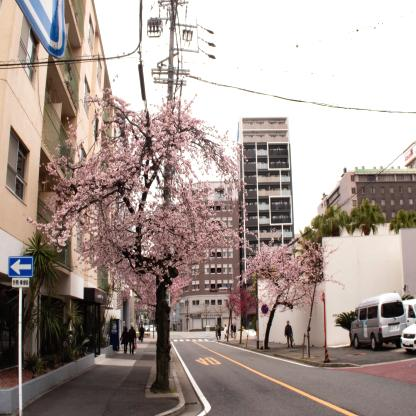KawazuSakura: (32, 95, 245, 312), (234, 238, 328, 305)
